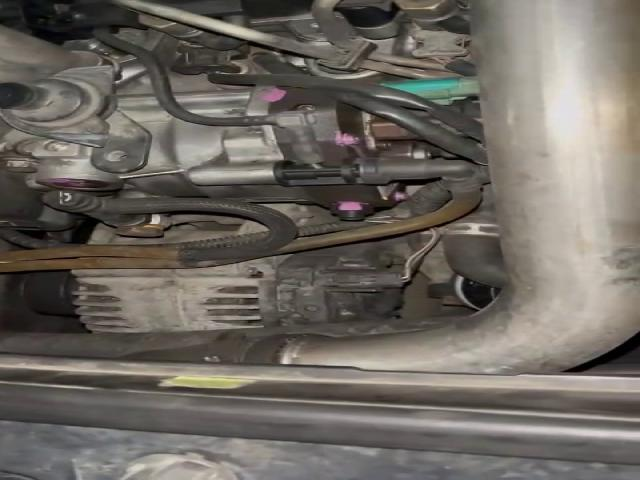alternator: (73, 262, 274, 332)
high_pressure_pump: (15, 86, 477, 220)
